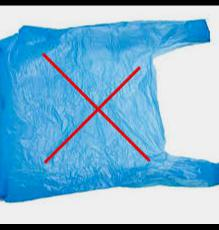Plastic: (0, 17, 218, 206)
